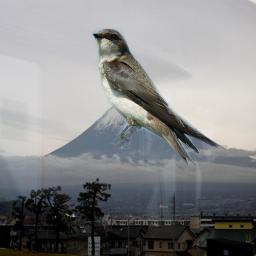Swallow: (92, 28, 218, 166)
